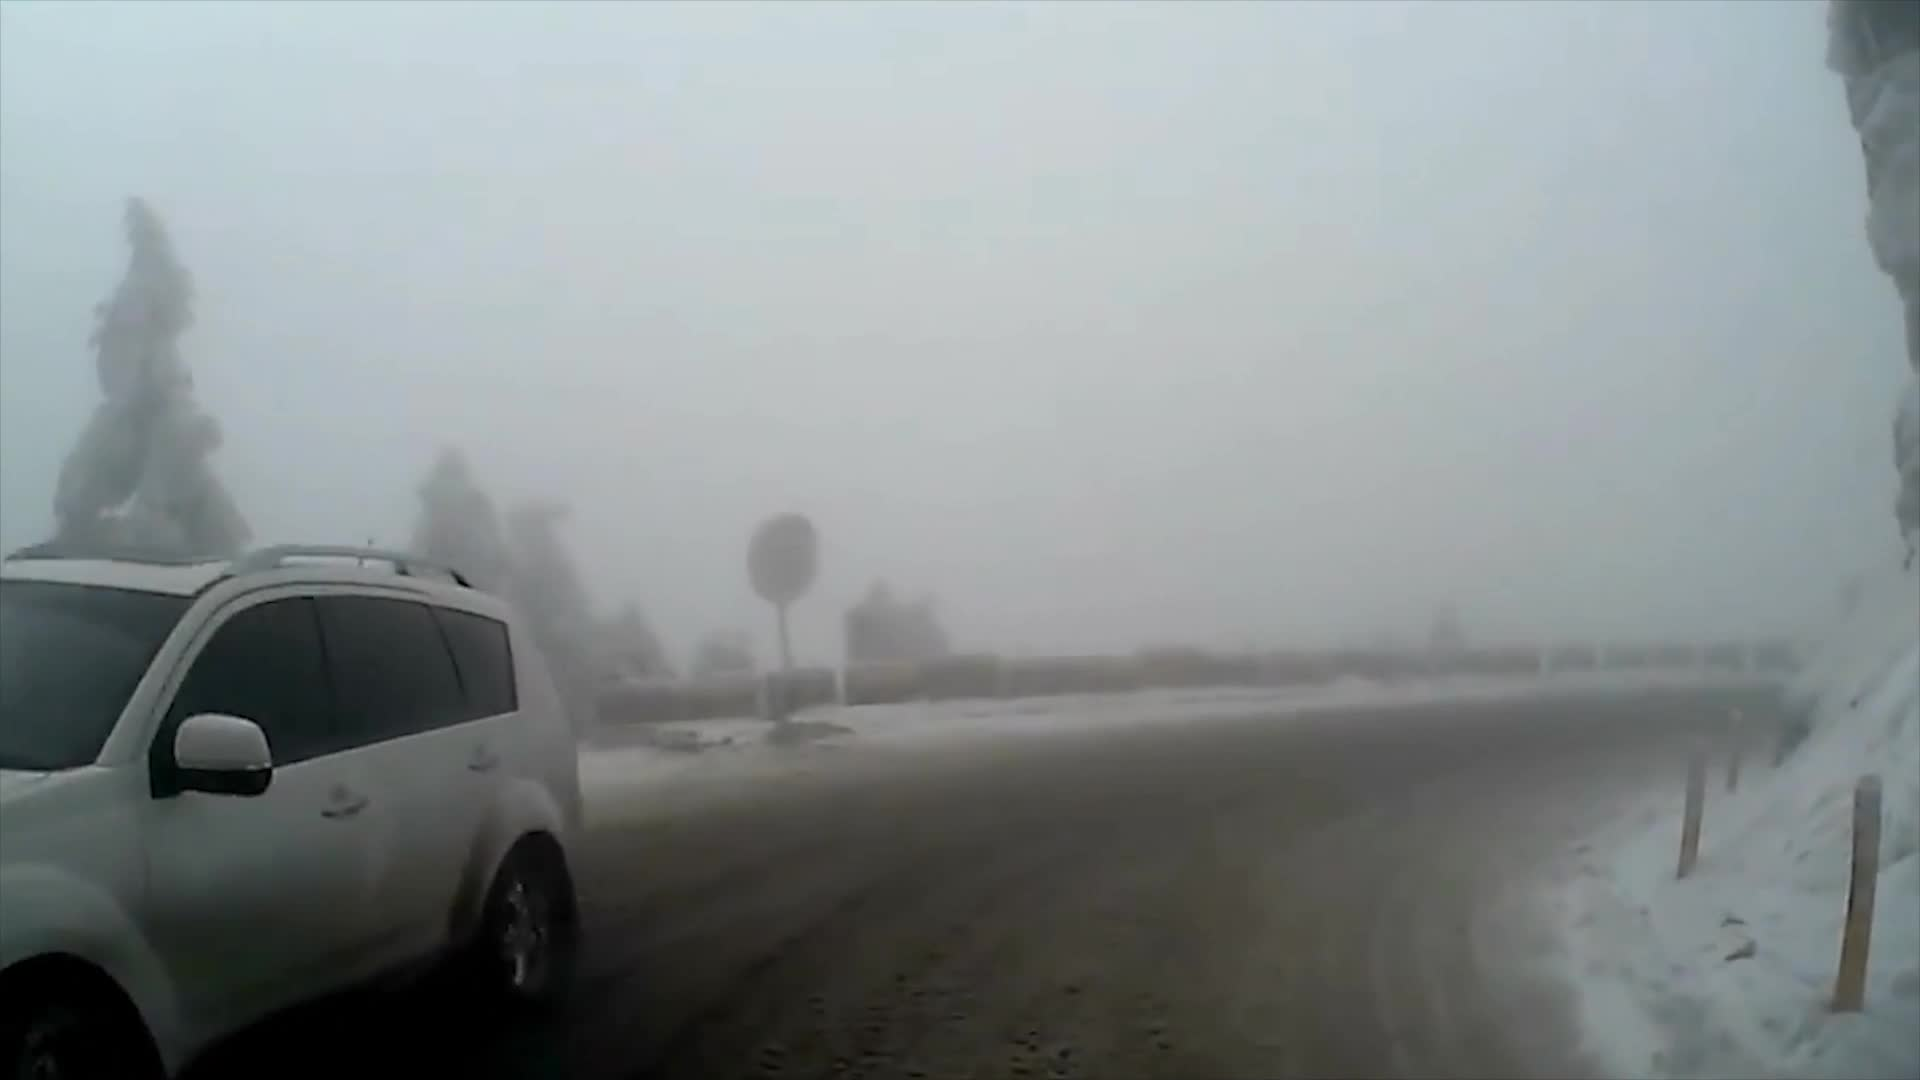vehicle: (0, 541, 585, 1080)
